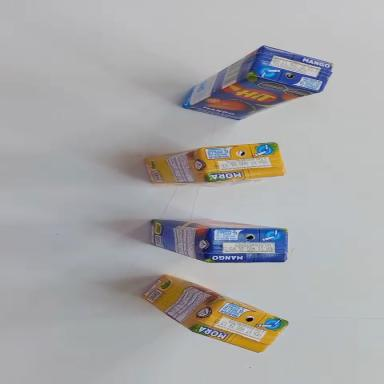HIT-MANGO: (173, 26, 340, 136), (146, 213, 290, 272)
HIT-MORA: (137, 267, 289, 363), (144, 140, 286, 190)
cara_F: (184, 56, 321, 136), (151, 219, 285, 229)
